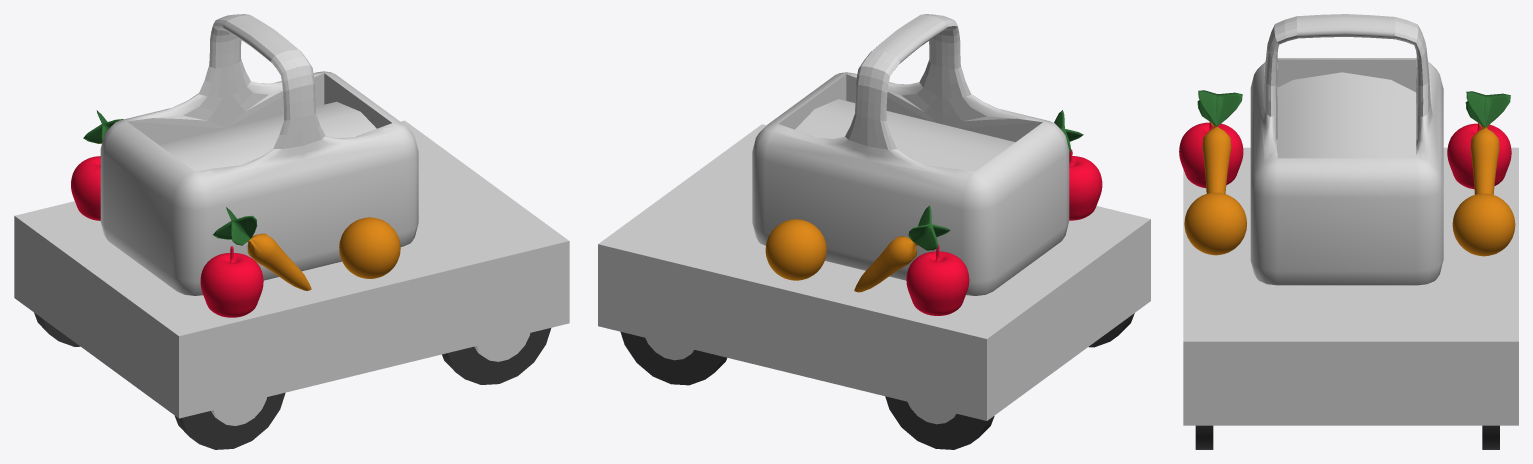
Rendered from Picnic Basket Float Fixed.FBX.
3 views of the same model, side by side, from view 1: azimuth 30°, elevation 25°; view 2: azimuth 150°, elevation 25°; view 3: azimuth 270°, elevation 25° (orthographic). The views are drawn at different scales.
Visible parts, largest first — view 1: Box03, ChamferBox01, Plane01, Sphere89, Sphere90, Tube04, Tube03, Cylinder08, Sphere01, Cylinder04, Cylinder03, Object02; view 2: Box03, ChamferBox01, Plane01, Sphere01, Sphere19, Tube02, Tube01, Sphere89, Cylinder02, Object, Cylinder04, Cylinder03; view 3: Box03, ChamferBox01, Plane01, Sphere19, Sphere90, Sphere89, Sphere01, Cylinder02, Cylinder08, Object02, Object, Tube03 (+1 smaller).
Part boxes in pixels (x1=…): Box03: x1=14, y1=120, x2=569, y2=418; ChamferBox01: x1=100, y1=14, x2=418, y2=295; Plane01: x1=159, y1=101, x2=376, y2=171; Sphere89: x1=200, y1=246, x2=263, y2=317; Sphere90: x1=339, y1=217, x2=400, y2=278; Tube04: x1=175, y1=392, x2=285, y2=449; Tube03: x1=442, y1=328, x2=551, y2=384; Cylinder08: x1=247, y1=233, x2=311, y2=290; Sphere01: x1=71, y1=156, x2=100, y2=220; Cylinder04: x1=211, y1=397, x2=266, y2=425; Cylinder03: x1=474, y1=333, x2=530, y2=361; Object02: x1=213, y1=207, x2=257, y2=245; Box03: x1=598, y1=124, x2=1150, y2=420; ChamferBox01: x1=752, y1=14, x2=1069, y2=295; Plane01: x1=795, y1=99, x2=1015, y2=171; Sphere01: x1=906, y1=245, x2=969, y2=315; Sphere19: x1=765, y1=219, x2=826, y2=280; Tube02: x1=885, y1=396, x2=994, y2=449; Tube01: x1=620, y1=331, x2=726, y2=385; Sphere89: x1=1069, y1=149, x2=1102, y2=220; Cylinder02: x1=854, y1=236, x2=918, y2=292; Object: x1=908, y1=205, x2=950, y2=250; Cylinder04: x1=907, y1=401, x2=956, y2=424; Cylinder03: x1=645, y1=338, x2=694, y2=360; Box03: x1=1183, y1=147, x2=1518, y2=425; ChamferBox01: x1=1250, y1=14, x2=1443, y2=285; Plane01: x1=1277, y1=72, x2=1416, y2=158; Sphere19: x1=1452, y1=193, x2=1515, y2=256; Sphere90: x1=1184, y1=192, x2=1246, y2=255; Sphere89: x1=1179, y1=122, x2=1243, y2=188; Sphere01: x1=1447, y1=123, x2=1511, y2=188; Cylinder02: x1=1470, y1=119, x2=1499, y2=194; Cylinder08: x1=1202, y1=122, x2=1231, y2=193; Object02: x1=1197, y1=90, x2=1242, y2=126; Object: x1=1465, y1=91, x2=1510, y2=127; Tube03: x1=1195, y1=425, x2=1213, y2=449.
Size of the model in its own units: 41.11 by 34.08 by 30.4.
